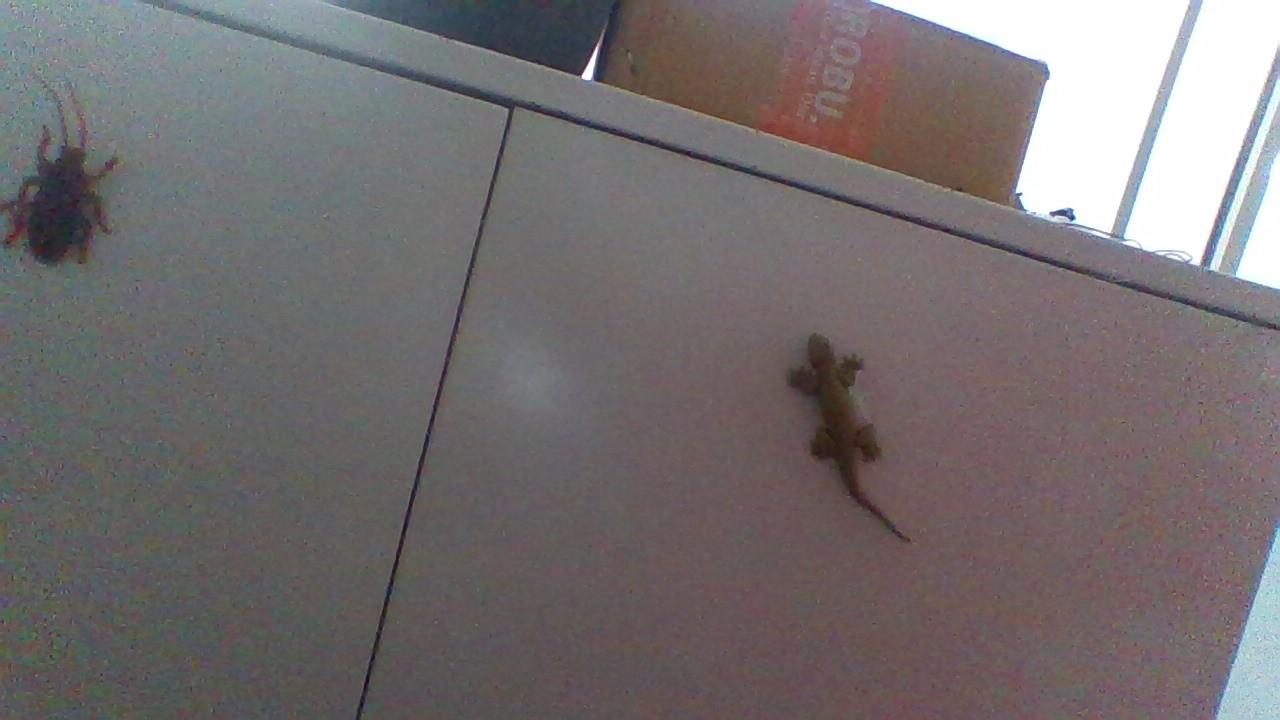cockroach: (3, 73, 133, 288)
lizard: (776, 325, 932, 550)
